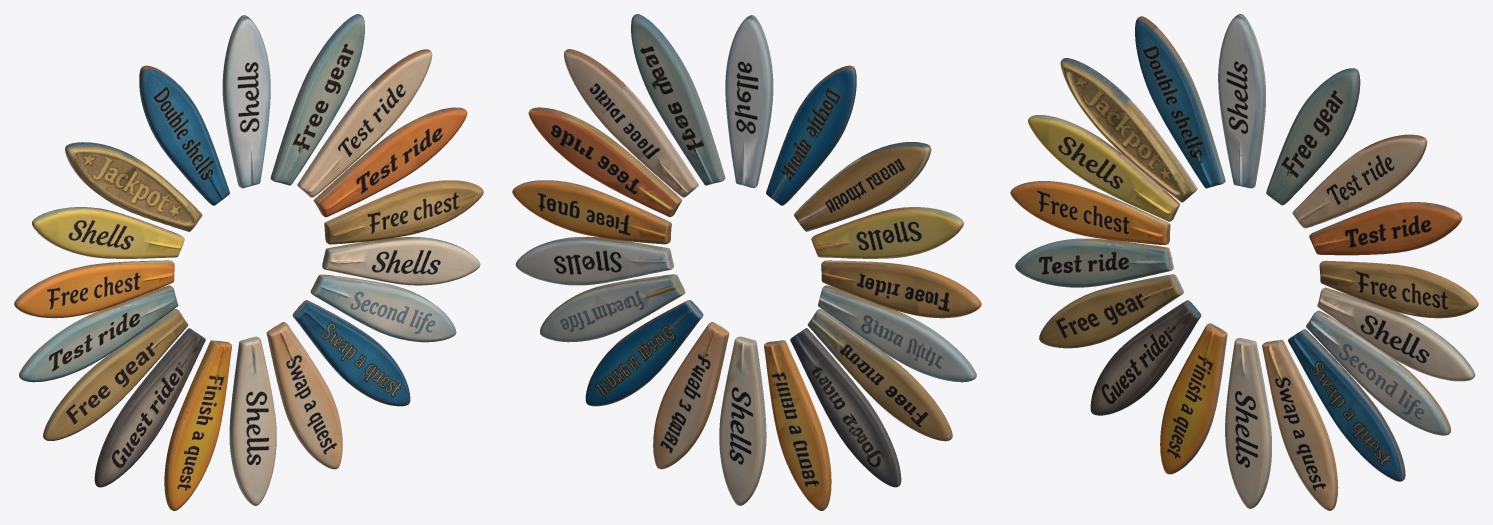
Rendered from wheelboards.glb.
The picture shows the model from 3 angles, left to right: view 1: azimuth 30°, elevation 25°; view 2: azimuth 150°, elevation 25°; view 3: azimuth 330°, elevation 25°; orthographic projection.
Visible parts, largest first — view 1: boards; view 2: boards; view 3: boards.
Part boxes in pixels (<box>): boards: <box>14,14,483,510</box>; boards: <box>512,14,981,510</box>; boards: <box>1010,14,1478,510</box>.
Bounding box in the file's own units: 0.9825 × 0.9879 × 0.0323.
Materials: 1 (1 with a texture image).
